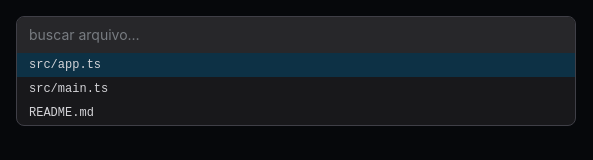
Test: filtra fuzzy ao digitar
This screenshot has width=593, height=160.
Type "app" into the field with placeholder "buscar arquivo…" at (296, 35), box x1=17 y1=17 x2=575 y2=53
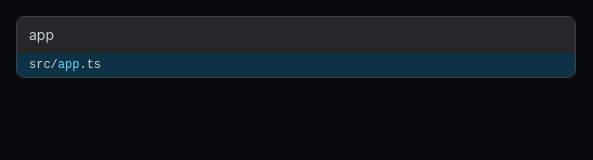
Expected: the text "app.ts" is shown, x1=17 y1=53 x2=575 y2=77
Expected: the text "README.md" is gone
